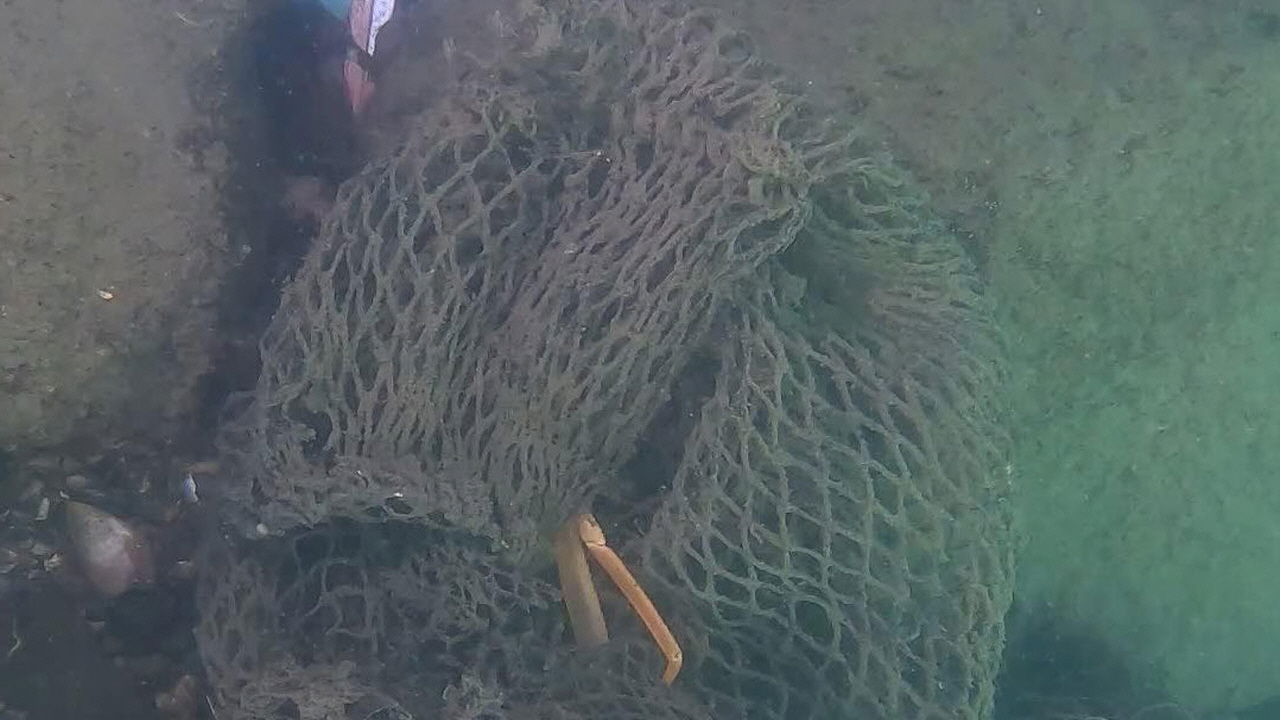fish net: (190, 0, 1016, 720)
